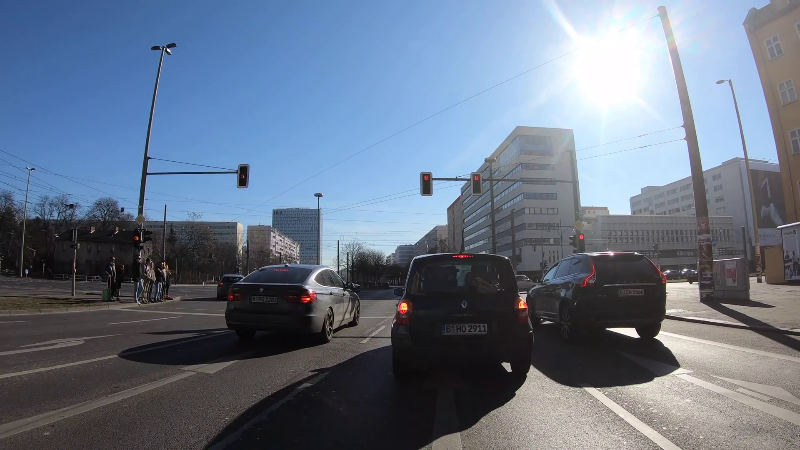Plate: (438, 321, 492, 338), (612, 285, 647, 298), (246, 293, 281, 305)
